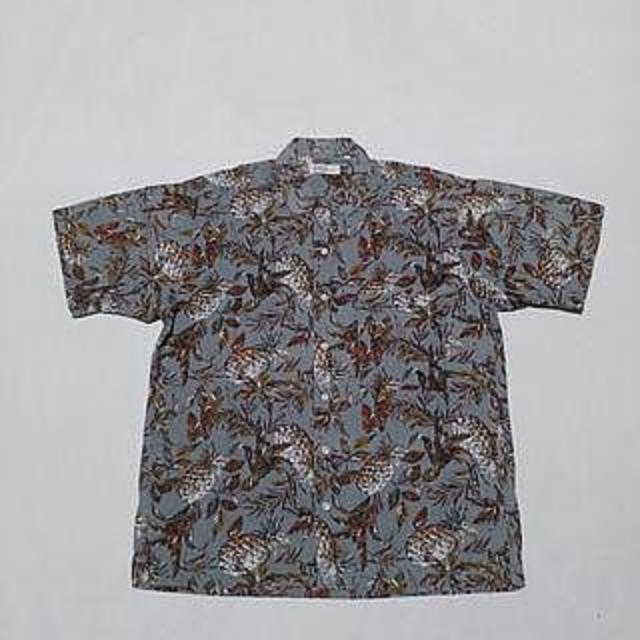T_SHIRT: (44, 132, 640, 609)
